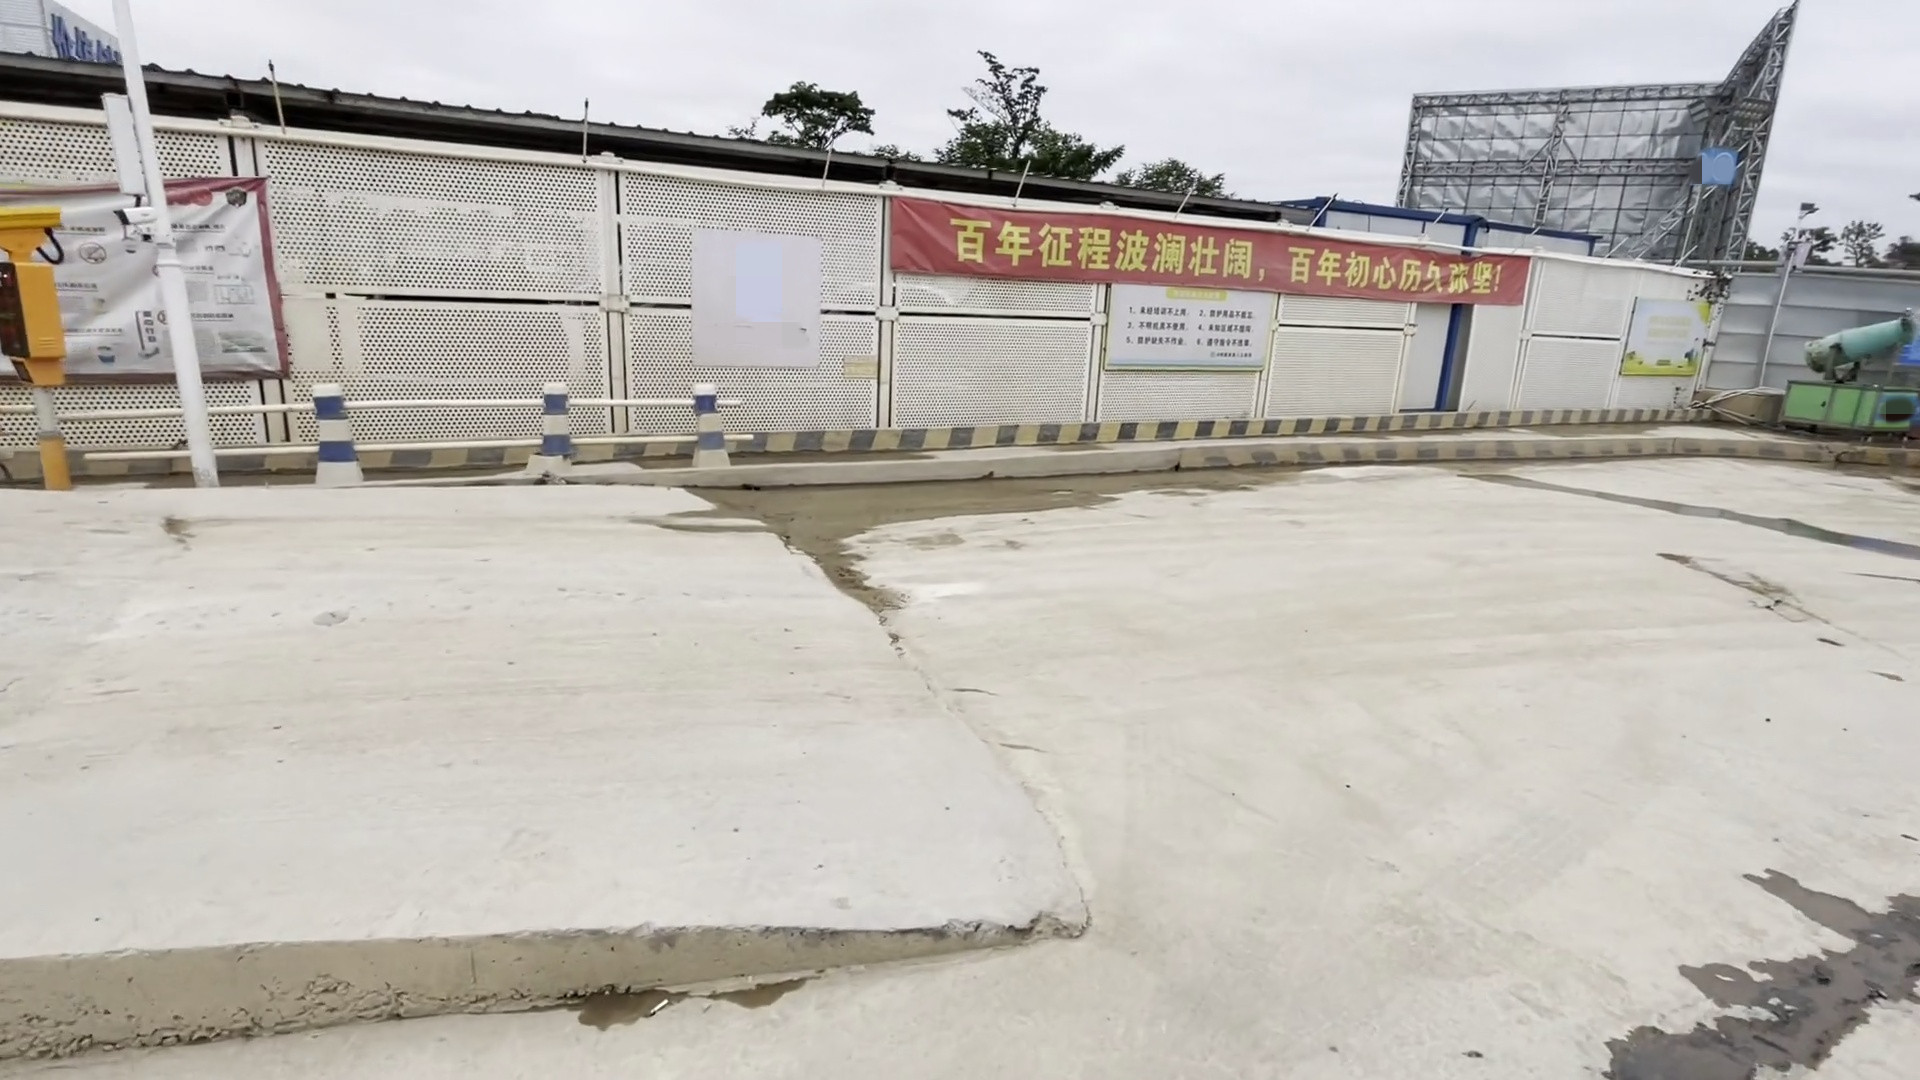slogan: (887, 196, 1522, 309), (1100, 284, 1278, 367)
